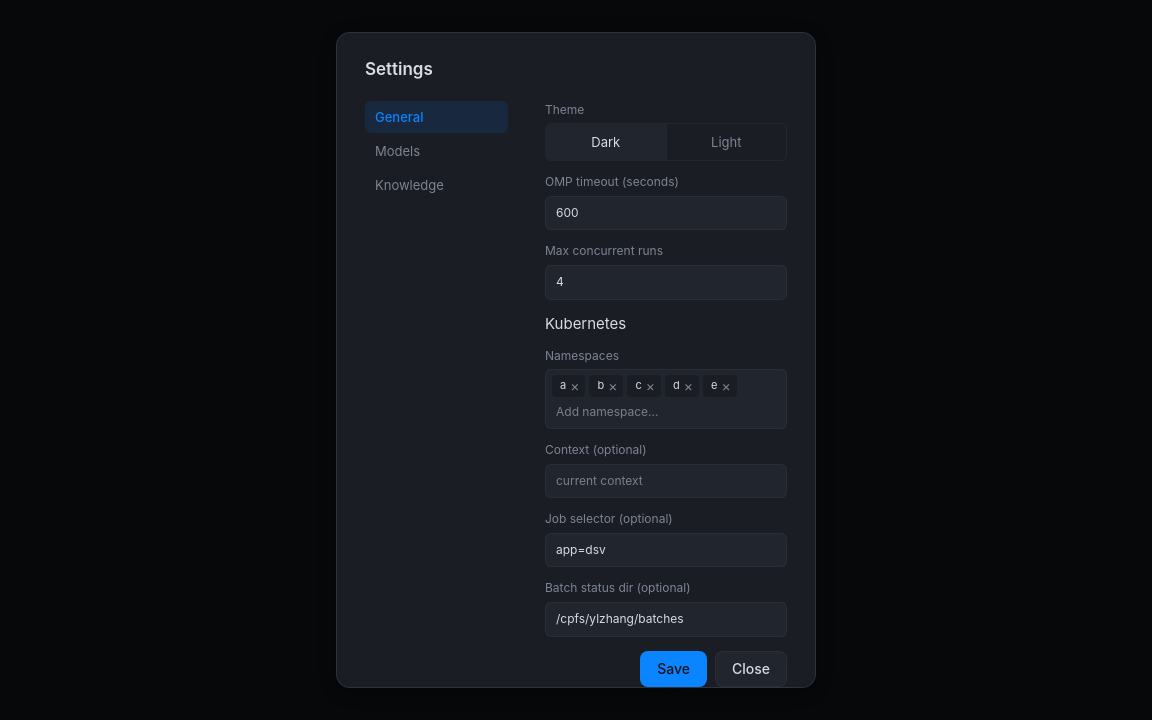
Test case: k8s namespaces chips input › declines the 6th namespace loudly (the 5-cap is daemon-enforced too)
Type "f" into the field with placeholder "Add namespace…" at (666, 412), box [552,400,780,423]
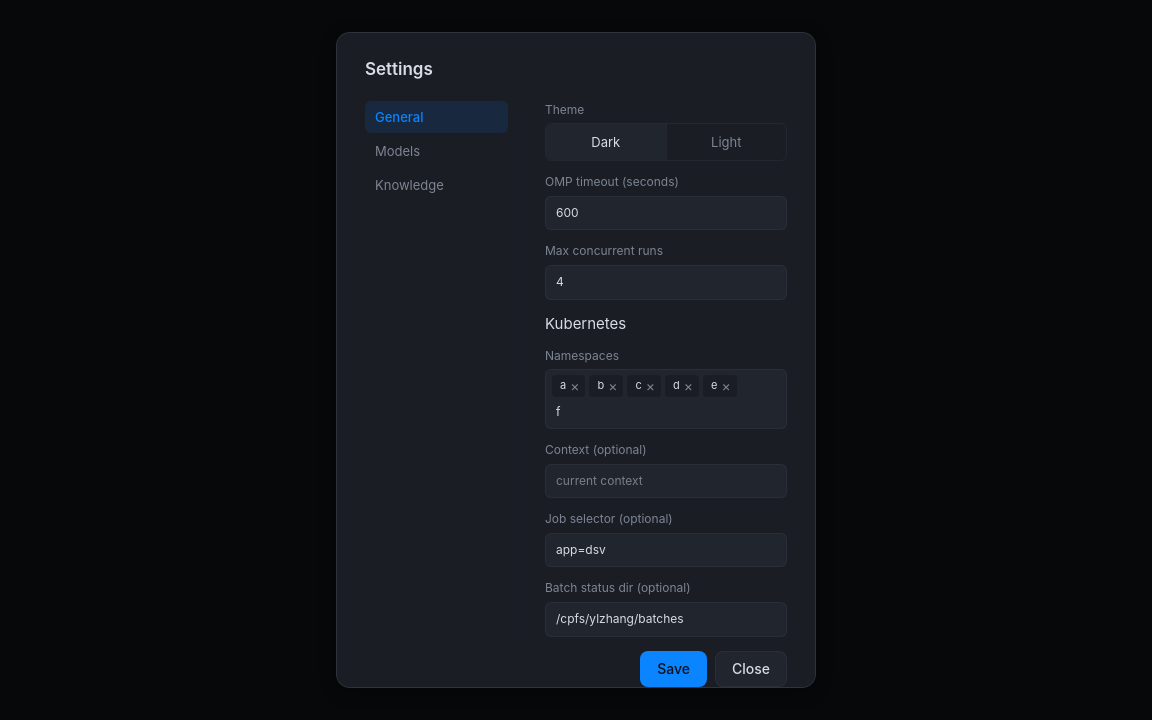
Press Enter in the field with placeholder "Add namespace…", box [552,400,780,423]
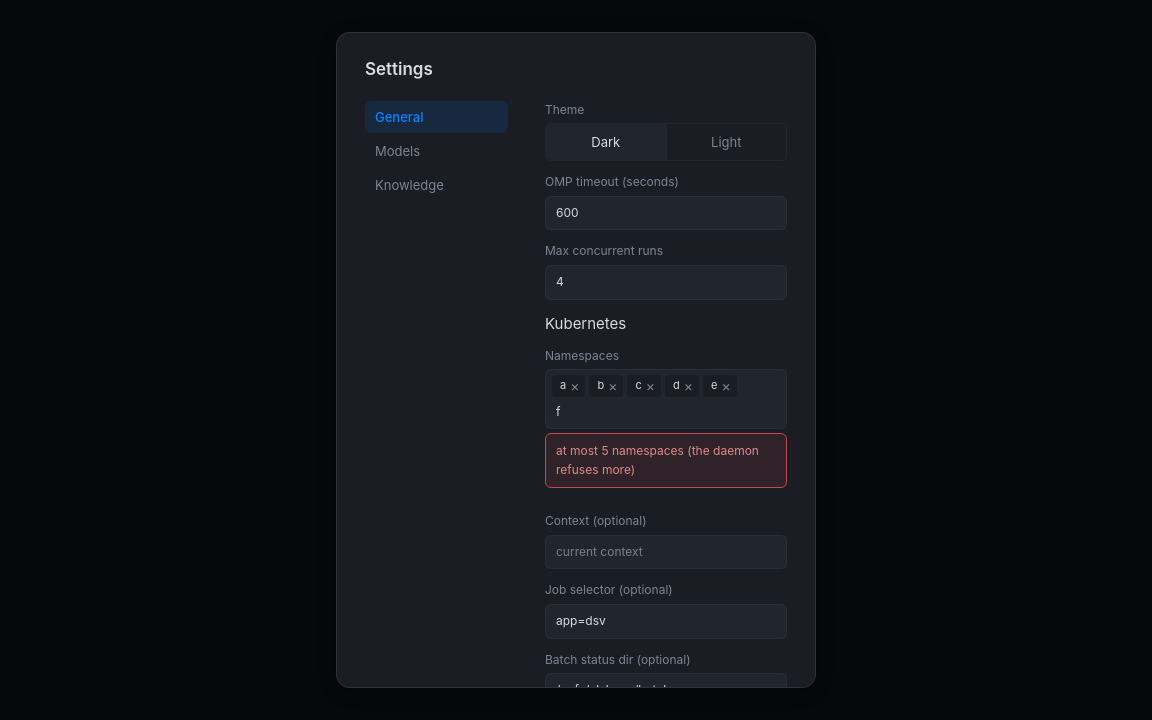
Expected: the text "at most 5 namespaces (the daemon refuses more)" is shown, [545,433,787,488]
